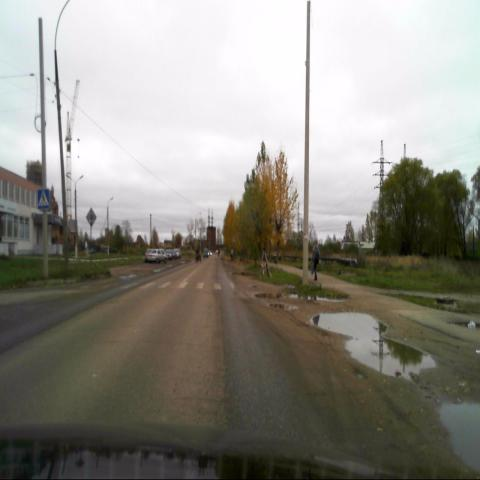5_19_1: (36, 190, 50, 212)
